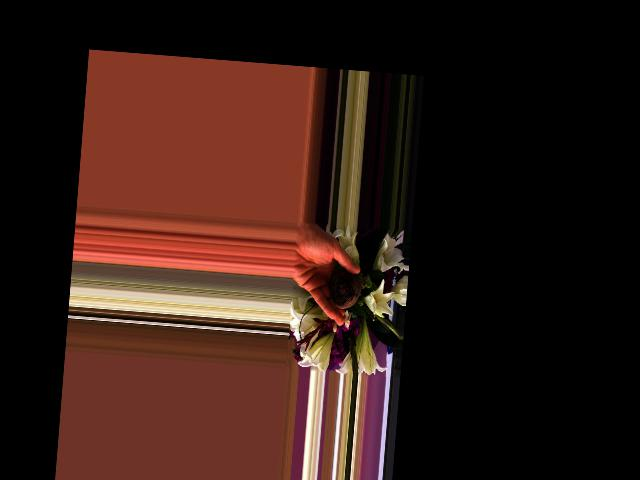beet: (326, 268, 362, 311)
